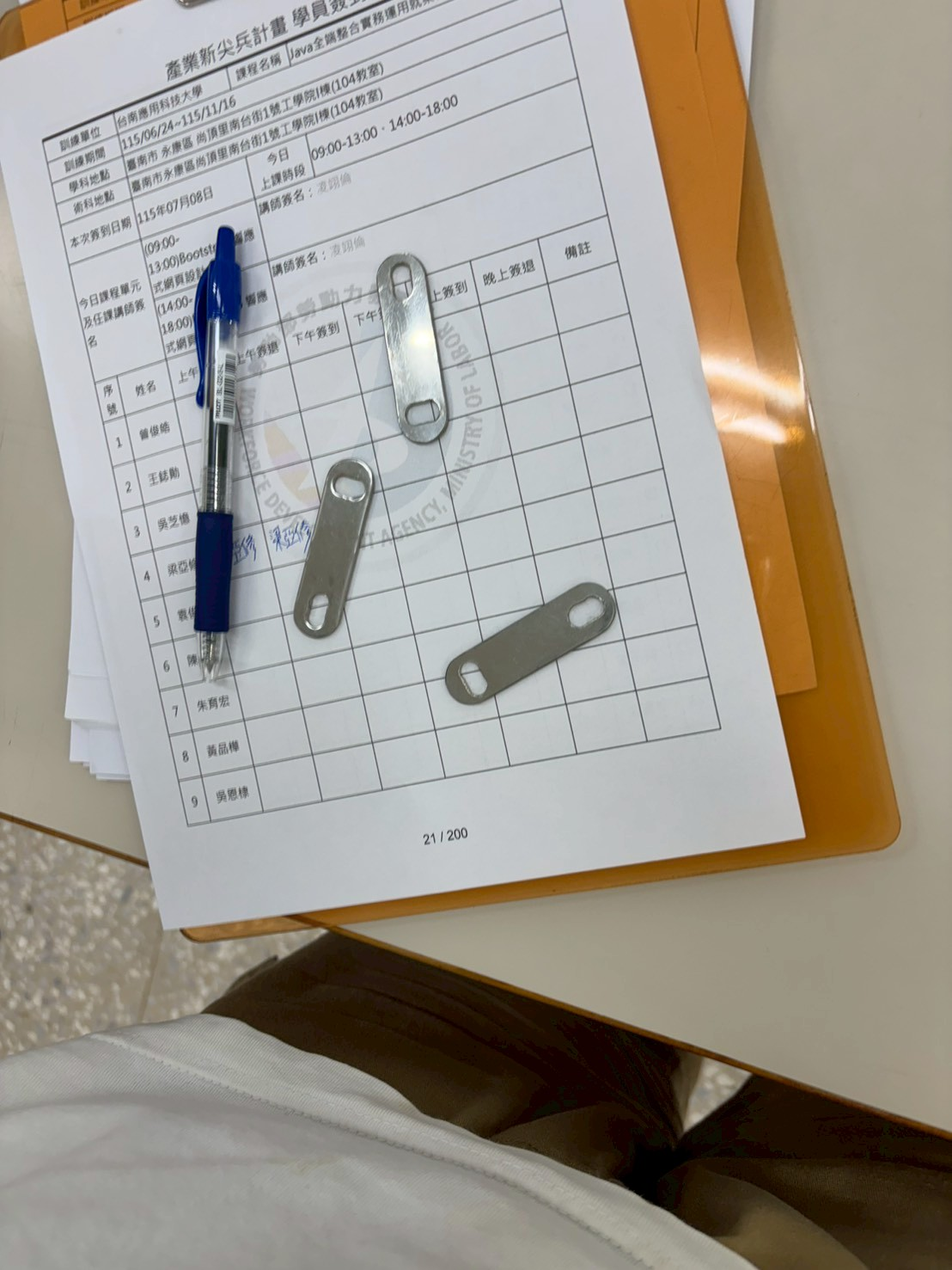Fe: (330, 449, 384, 644), (600, 570, 654, 765), (372, 255, 426, 450)
